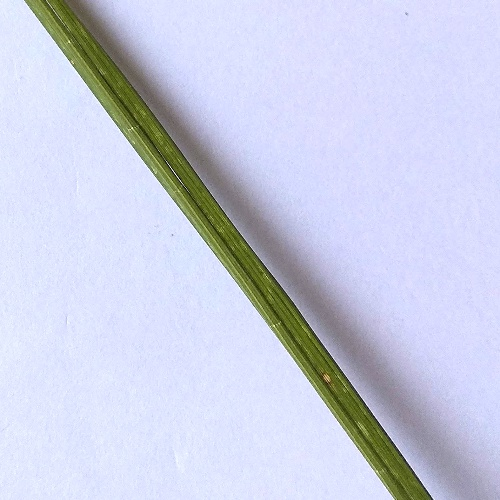Busuk Leher: (313, 363, 339, 393)
